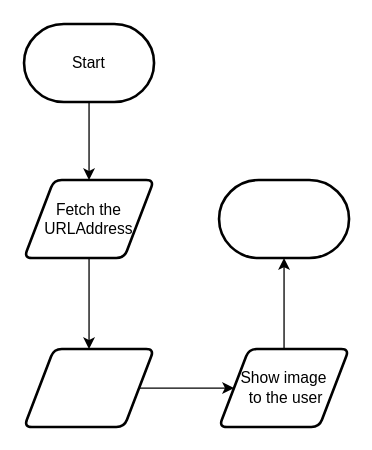
The diagram is 372 pixels wide and 450 high, and some of its shapes have lost their labels. The box of each missing label's shape, as (x1, y1, x2, y2) in pixels:
Convert URL to json: (22, 347, 155, 428)
Stop: (217, 178, 350, 259)
